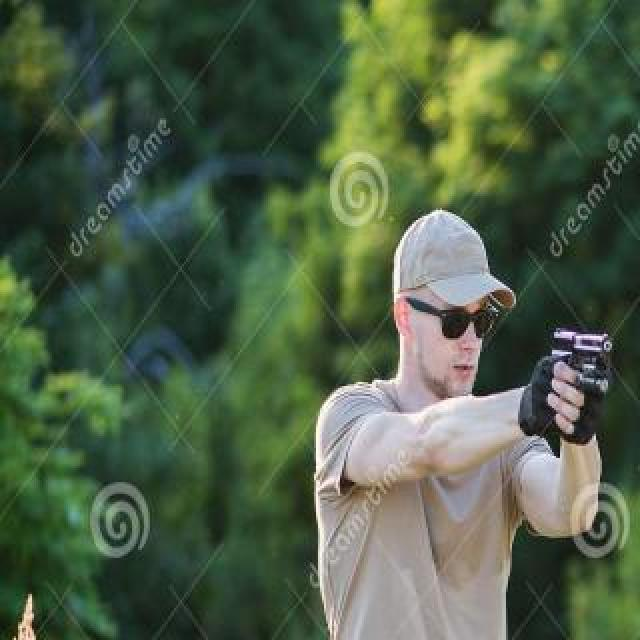Guns: (542, 317, 615, 382)
